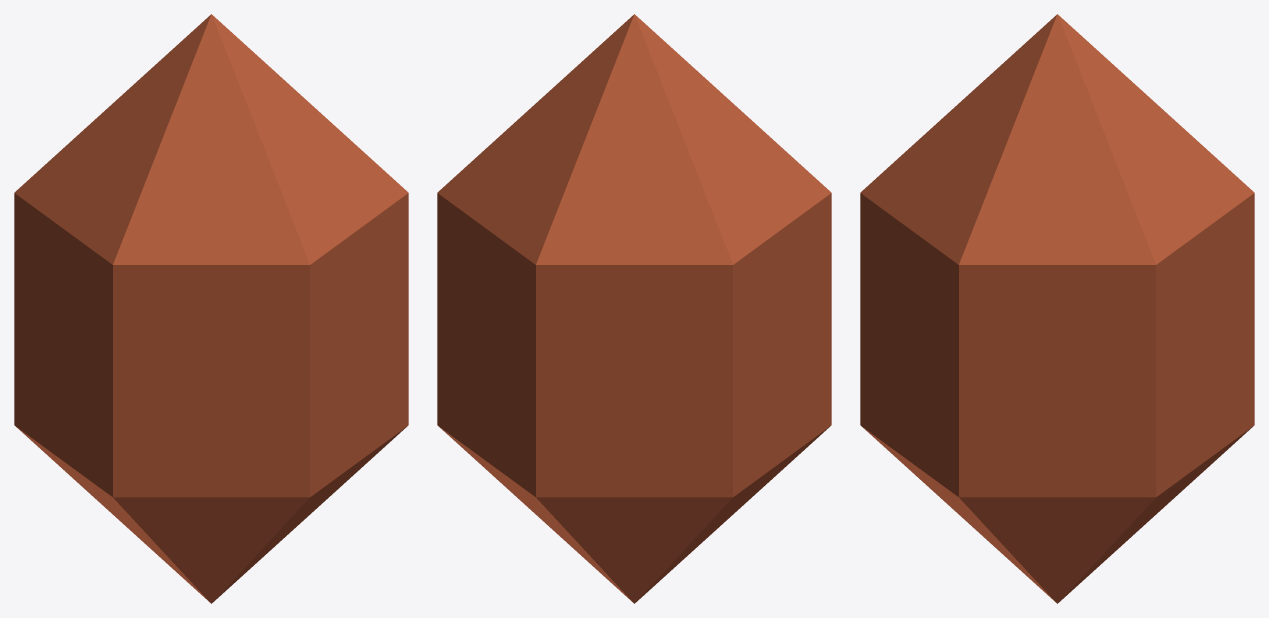
Rendered from Gimmick.fbx.
The picture shows the model from 3 angles, left to right: view 1: azimuth 30°, elevation 25°; view 2: azimuth 150°, elevation 25°; view 3: azimuth 270°, elevation 25°; orthographic projection.
Parts seen in each view (by area): view 1: Gimmick; view 2: Gimmick; view 3: Gimmick.
Boxes of the visible parts, x1,y1,x2,y2 form: Gimmick: [14, 14, 408, 603]; Gimmick: [437, 14, 831, 603]; Gimmick: [860, 14, 1254, 603].
Bounding box in the file's own units: 10.76 × 20.5 × 12.43.
